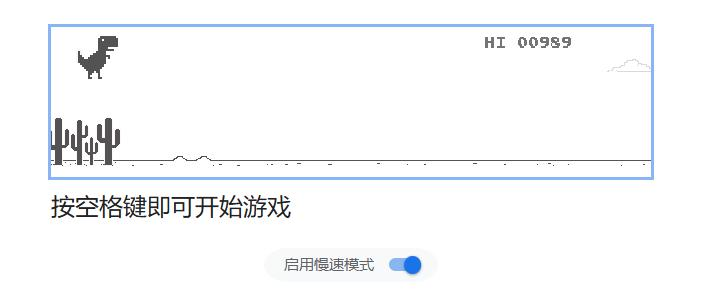cactus: (50, 115, 124, 166)
dino: (79, 32, 120, 81)
